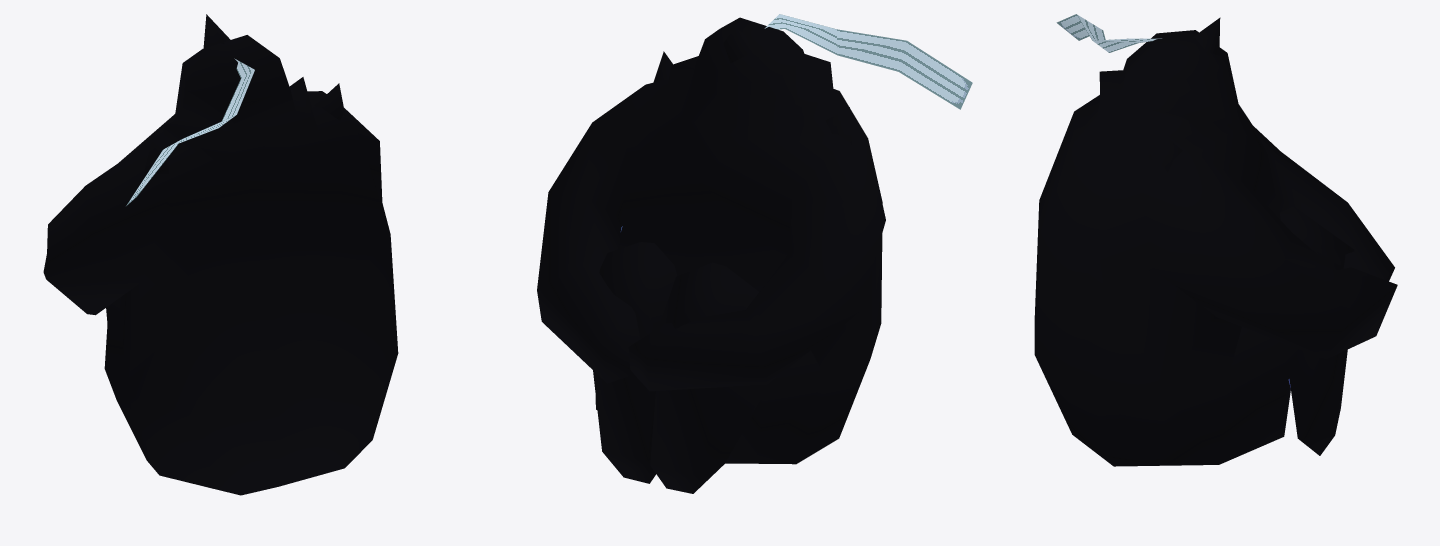
File: ps2_save-icons_fullmetalalchemistandthebrokenangel.glb
3 views of the same model, side by side, from view 1: azimuth 30°, elevation 25°; view 2: azimuth 150°, elevation 25°; view 3: azimuth 270°, elevation 25° (orthographic). The views are drawn at different scales.
Visible parts, largest first — view 1: icon00.ico; view 2: icon00.ico; view 3: icon00.ico.
Part boxes in pixels (<box>): icon00.ico: <box>43,14,398,495</box>; icon00.ico: <box>537,14,972,493</box>; icon00.ico: <box>1034,14,1397,466</box>.
Bounding box in the file's own units: 3.08 × 3.14 × 2.92.
1 material, 1 textured.
